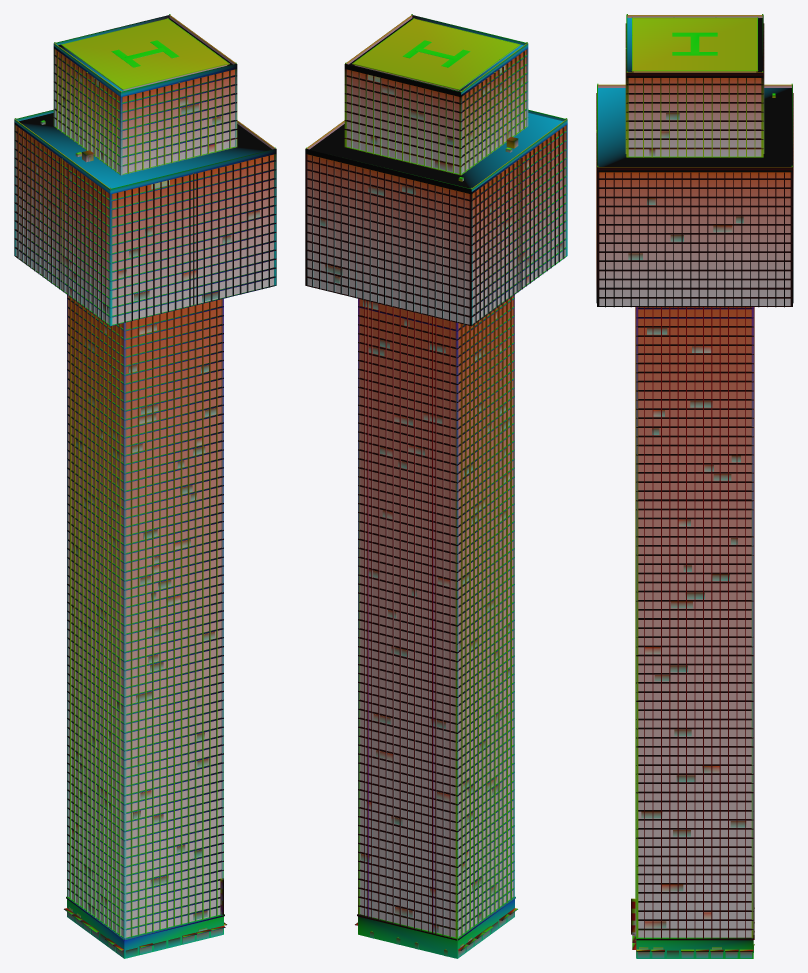
File: Tower_Crown_V14.fbx
The picture shows the model from 3 angles, left to right: view 1: azimuth 30°, elevation 25°; view 2: azimuth 150°, elevation 25°; view 3: azimuth 270°, elevation 25°; orthographic projection. The views are drawn at different scales.
Parts seen in each view (by area): view 1: Tower_Crown_V14_LOD0; view 2: Tower_Crown_V14_LOD0; view 3: Tower_Crown_V14_LOD0.
Boxes of the visible parts, box(x1,y1,x2,y2) form: Tower_Crown_V14_LOD0: box(14, 14, 276, 958); Tower_Crown_V14_LOD0: box(305, 14, 567, 958); Tower_Crown_V14_LOD0: box(596, 14, 793, 958).
Size of what is drawn, in the model's own units: 70.6 by 352 by 70.6.
